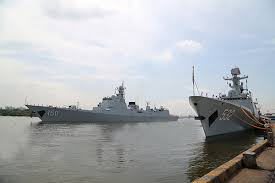tau_muctieu: (15, 84, 176, 128), (186, 57, 261, 141)
